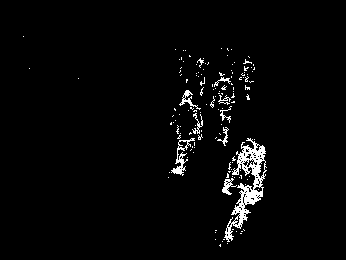person: (222, 136, 267, 248), (171, 92, 203, 178), (211, 71, 236, 145)
